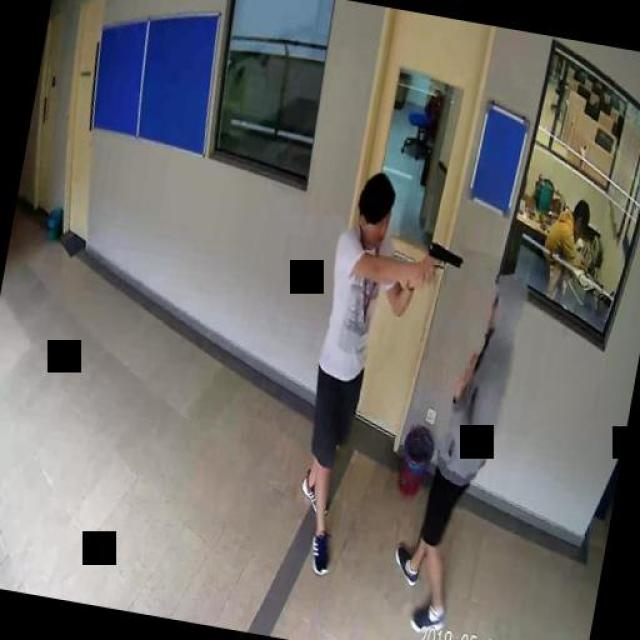gun: (421, 238, 465, 294)
